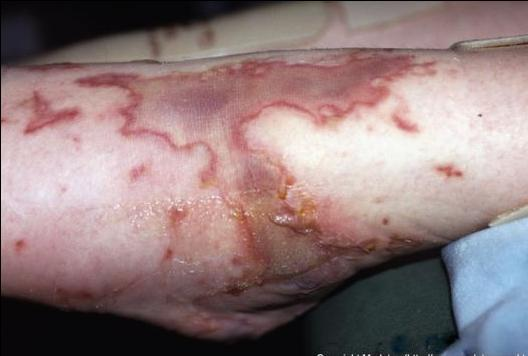NonPU: (0, 48, 434, 325)
